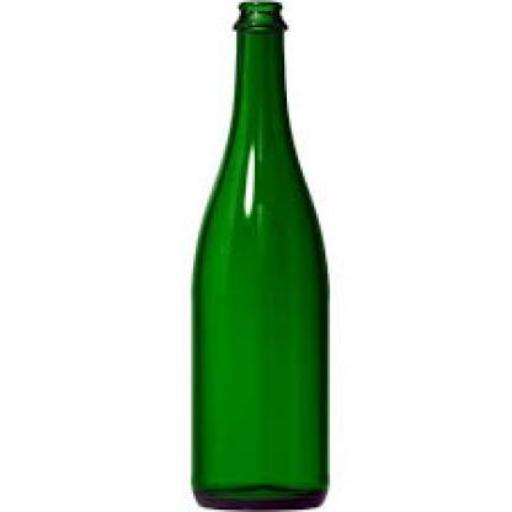glass: (190, 0, 328, 508)
